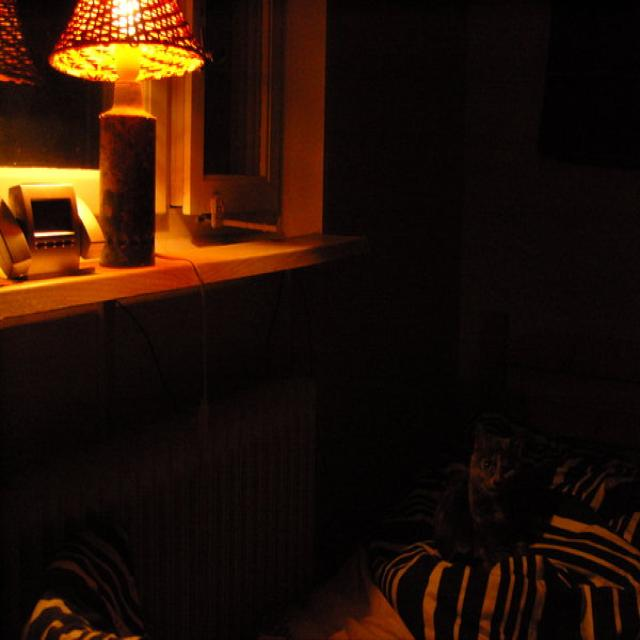Cat: (429, 413, 555, 591)
